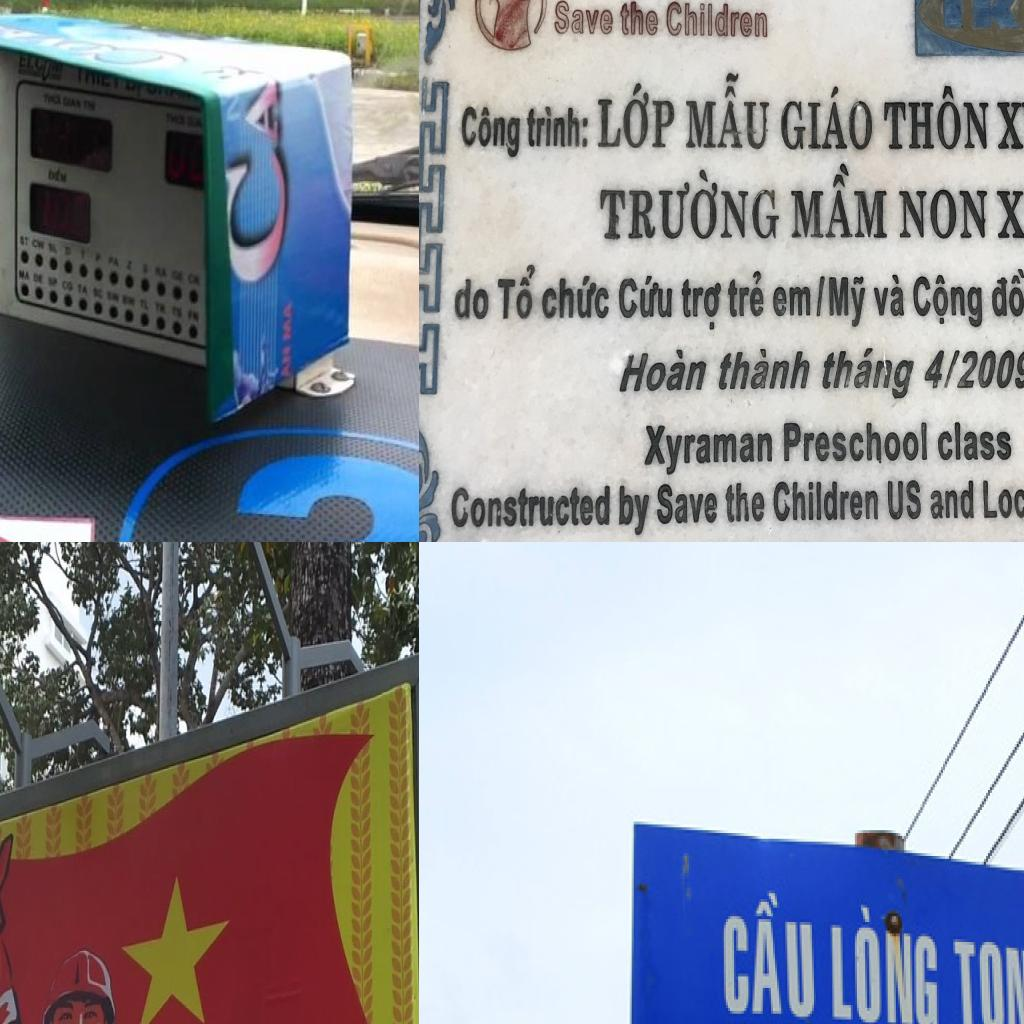text: (215, 447, 419, 542), (219, 80, 296, 284), (596, 166, 784, 249), (828, 899, 940, 1024), (720, 888, 818, 1022), (446, 480, 614, 536), (784, 162, 891, 242), (880, 81, 990, 156), (640, 416, 774, 476), (682, 66, 772, 152), (781, 412, 929, 464), (779, 80, 879, 155), (595, 73, 677, 158), (816, 338, 916, 404), (919, 337, 1024, 399), (951, 936, 1024, 1024), (616, 333, 708, 402), (896, 179, 988, 245), (770, 475, 882, 529), (716, 338, 812, 398), (912, 266, 988, 333), (664, 0, 773, 42), (458, 95, 522, 165), (934, 415, 1016, 465), (541, 267, 610, 322), (526, 96, 590, 154), (653, 478, 719, 532), (495, 255, 540, 329), (936, 0, 1024, 37), (616, 266, 674, 322), (826, 266, 870, 332), (681, 271, 725, 336), (990, 262, 1024, 337), (198, 63, 281, 93), (930, 474, 978, 524), (724, 478, 768, 532), (616, 479, 653, 542), (981, 470, 1024, 524), (725, 266, 766, 322), (550, 0, 615, 35), (452, 269, 490, 326), (886, 470, 926, 523), (993, 177, 1024, 245), (870, 268, 908, 322), (617, 0, 660, 40), (772, 279, 812, 321), (813, 269, 827, 320), (18, 53, 46, 73), (281, 297, 293, 343), (280, 343, 293, 381), (76, 280, 90, 297), (31, 237, 47, 251), (18, 268, 32, 283), (66, 244, 74, 259), (60, 173, 68, 184), (80, 247, 86, 260)
